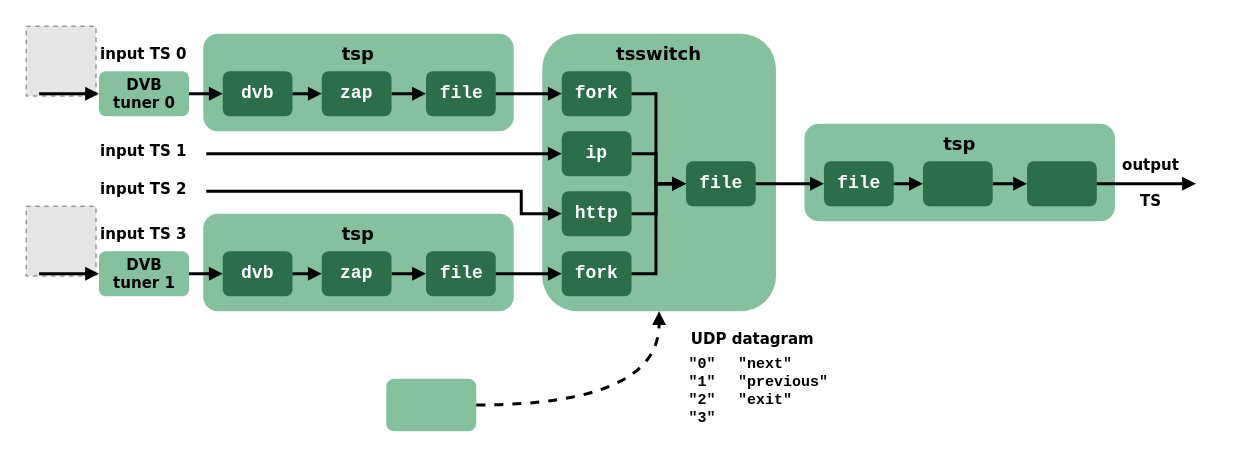
The diagram is 1233 pixels wide and 458 high, and some of its shapes have lost their labels. Grey dashed boxes stand in for pictures. The centre of each missing label's shape, as x and y in pixels:
"output" goes at (x=1061, y=183).
"plugin" goes at (x=957, y=183).
"remote control" goes at (x=431, y=404).
